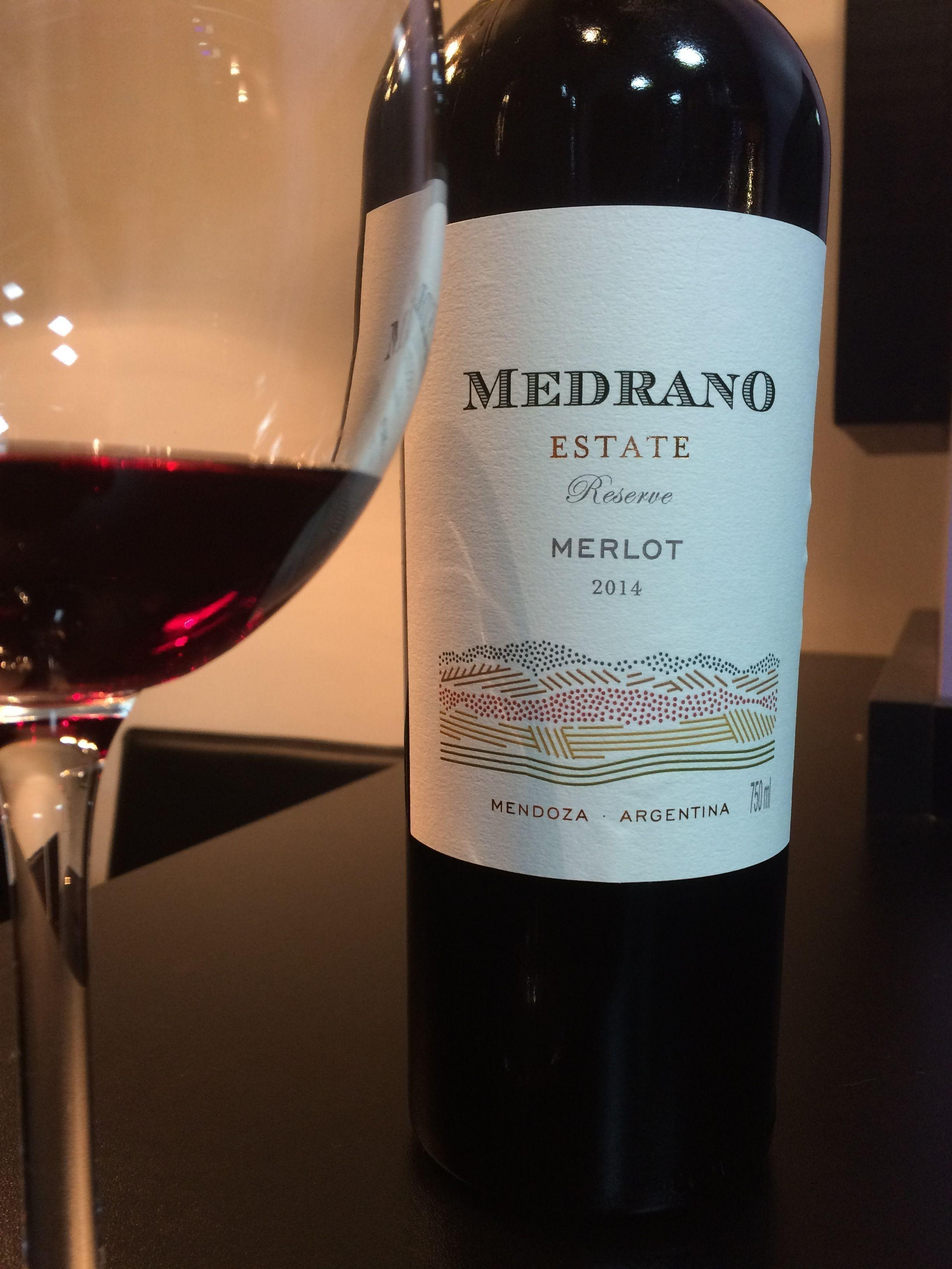bottle-glass: (377, 1, 844, 1249)
glass-wine: (0, 3, 429, 1260)
